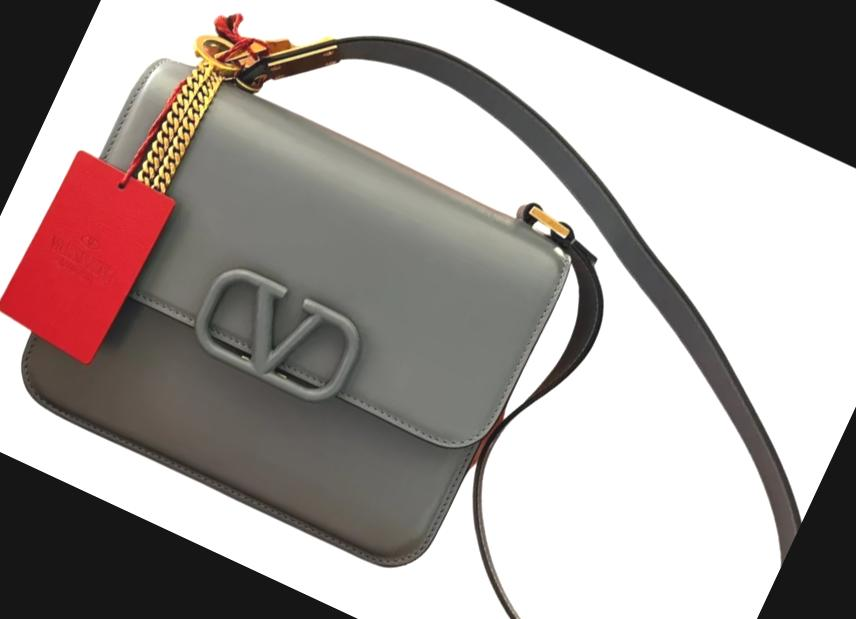VALENTINO: (184, 256, 372, 414)
